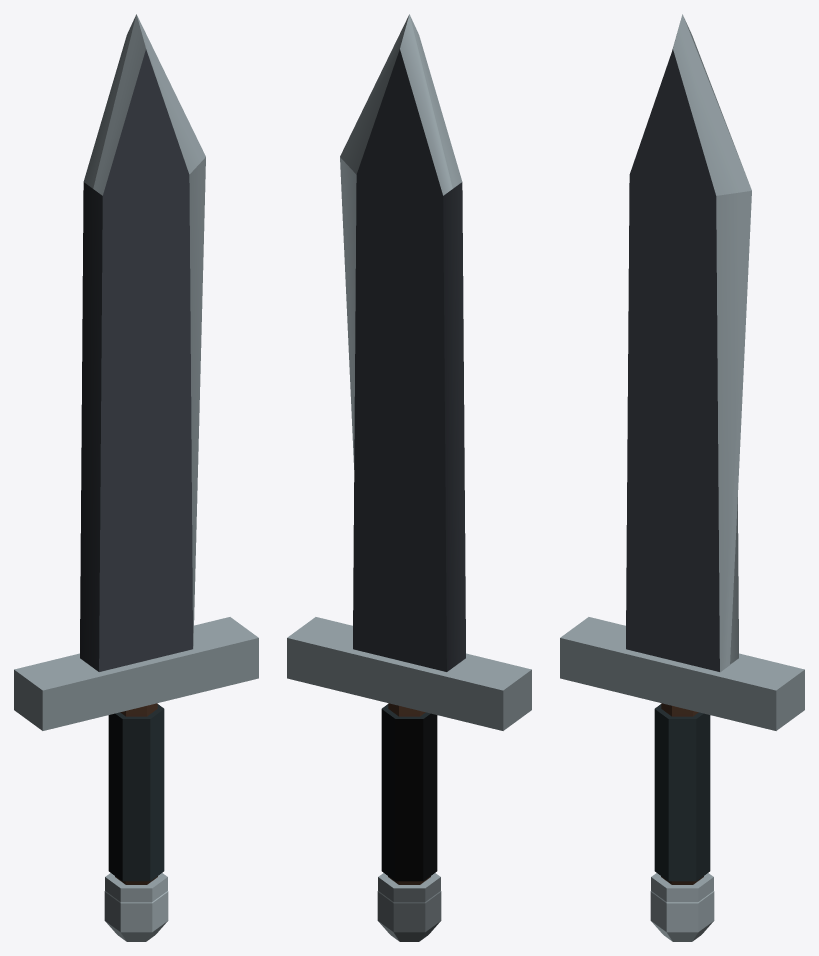
File: knight_sword_1.gltf
3 views of the same model, side by side, from view 1: azimuth 30°, elevation 25°; view 2: azimuth 150°, elevation 25°; view 3: azimuth 330°, elevation 25° (orthographic).
Parts seen in each view (by area): view 1: knight_sword_1; view 2: knight_sword_1; view 3: knight_sword_1.
Boxes of the visible parts, x1=… form: knight_sword_1: x1=14, y1=14, x2=258, y2=941; knight_sword_1: x1=287, y1=14, x2=531, y2=941; knight_sword_1: x1=560, y1=14, x2=804, y2=941.
Bounding box in the file's own units: 0.39 × 1.59 × 0.1.
Materials: 1 (1 with a texture image).
